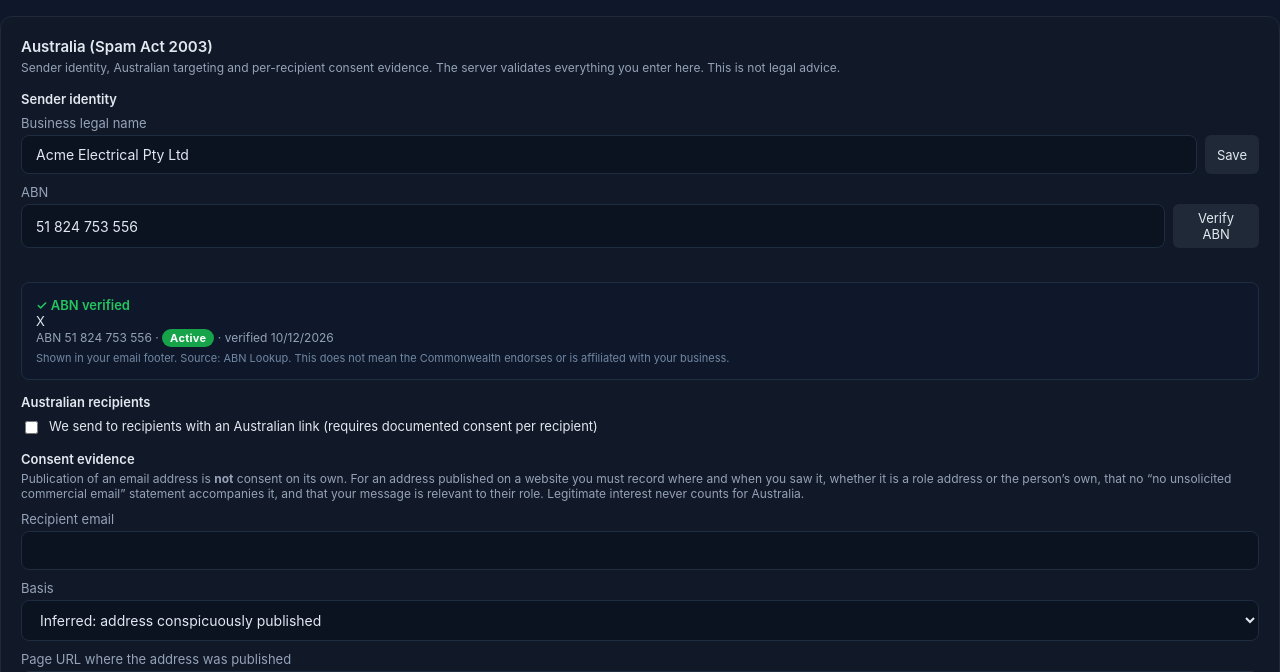
it: AuComplianceSection — ABN › failure shows the server message and clears a stored ABN when it is cancelled
Click the button "Verify ABN".
click(1216, 226)  # box [1173,204,1259,248]
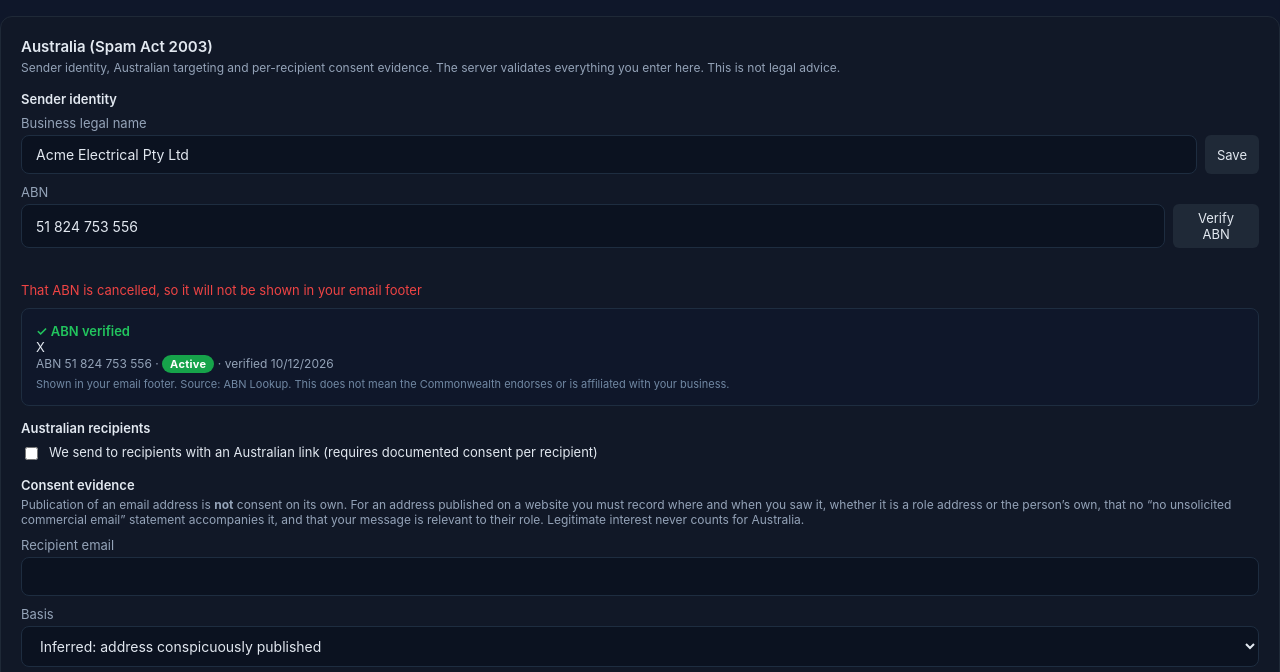
Result: the message "That ABN is cancelled, so it will not be shown in your email footer" is shown at [21,282,422,298]
